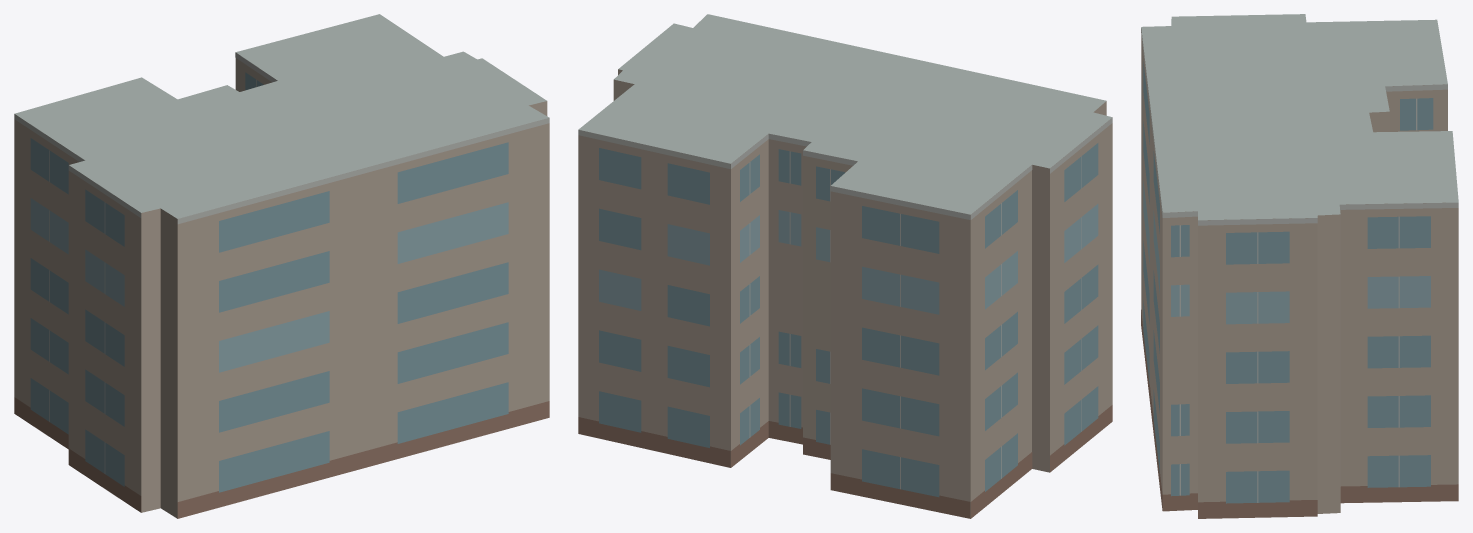
The model's file is survey-upis-32781174.glb.
3 views of the same model, side by side, from view 1: azimuth 30°, elevation 25°; view 2: azimuth 150°, elevation 25°; view 3: azimuth 270°, elevation 25° (orthographic).
Parts seen in each view (by area): view 1: survey-upis-32781174.tmp; view 2: survey-upis-32781174.tmp; view 3: survey-upis-32781174.tmp.
Boxes of the visible parts, x1,y1,x2,y2 form: survey-upis-32781174.tmp: [14, 14, 549, 518]; survey-upis-32781174.tmp: [578, 14, 1112, 518]; survey-upis-32781174.tmp: [1141, 14, 1458, 518].
Size of the model in its own units: 20.16 by 13.6 by 13.12.
